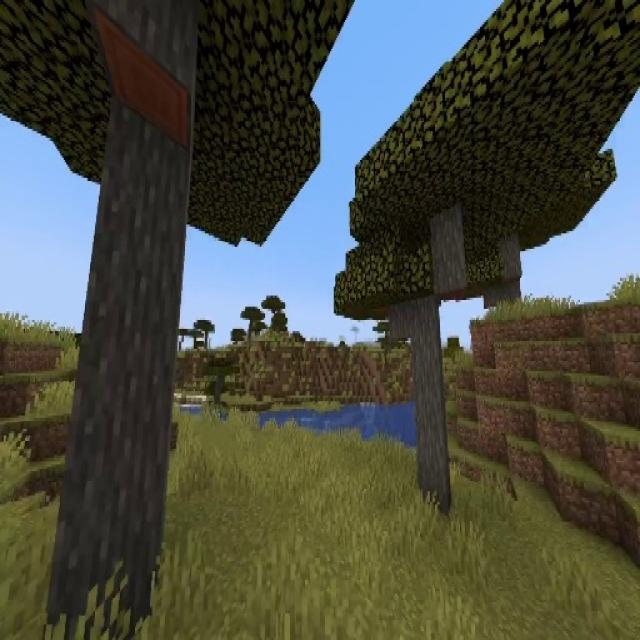acacia: (0, 0, 355, 640), (338, 0, 629, 504)
acacia_log: (44, 19, 196, 635), (416, 214, 461, 511), (496, 239, 522, 305)
